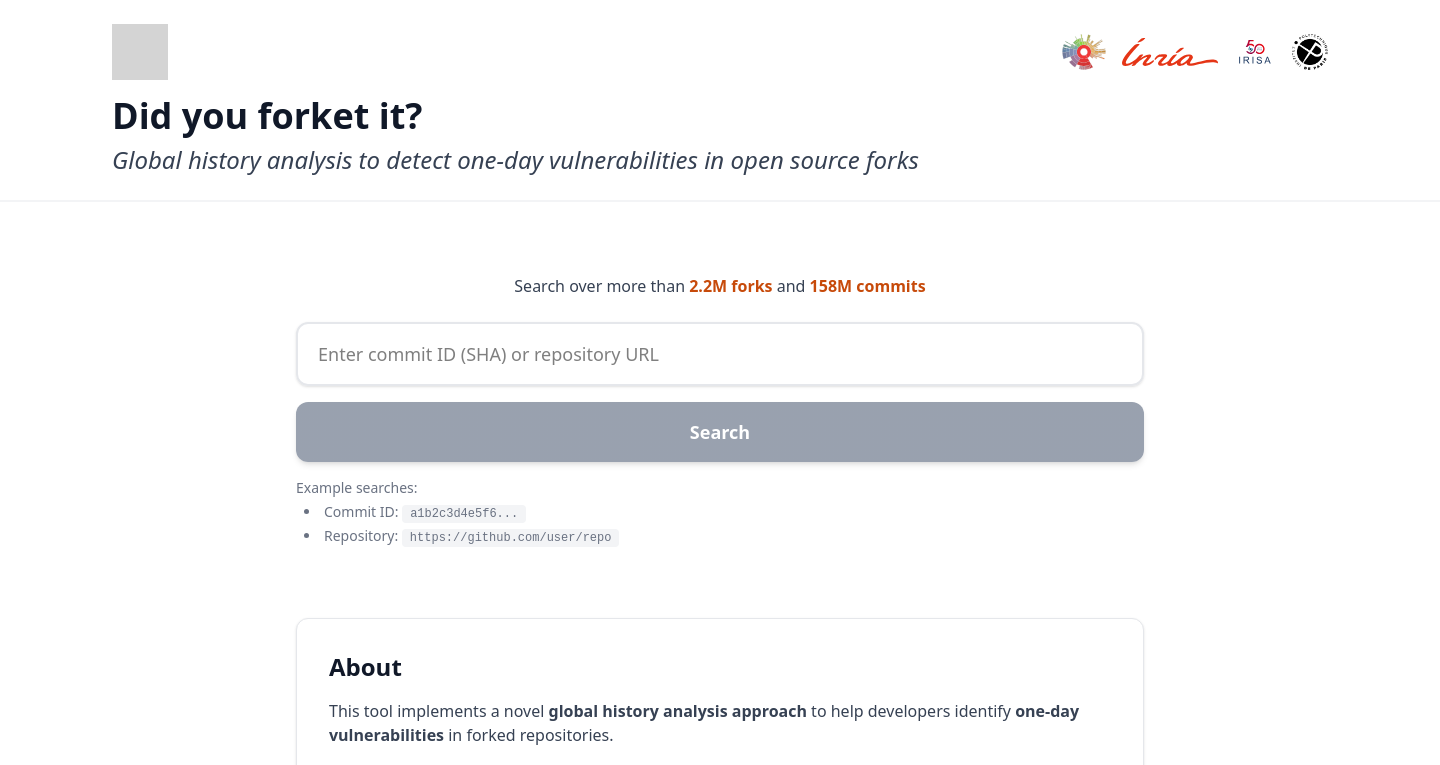
it: App - Consecutive Search Tests › should clear error messages when performing a new search
// First search (fails)
In the field named "search by commit id or repository url": (720, 354) left=296, top=322, right=1144, bottom=386, type "aaaaaaaaaaaaaaaaaaaaaaaaaaaaaaaaaaaaaaaa"
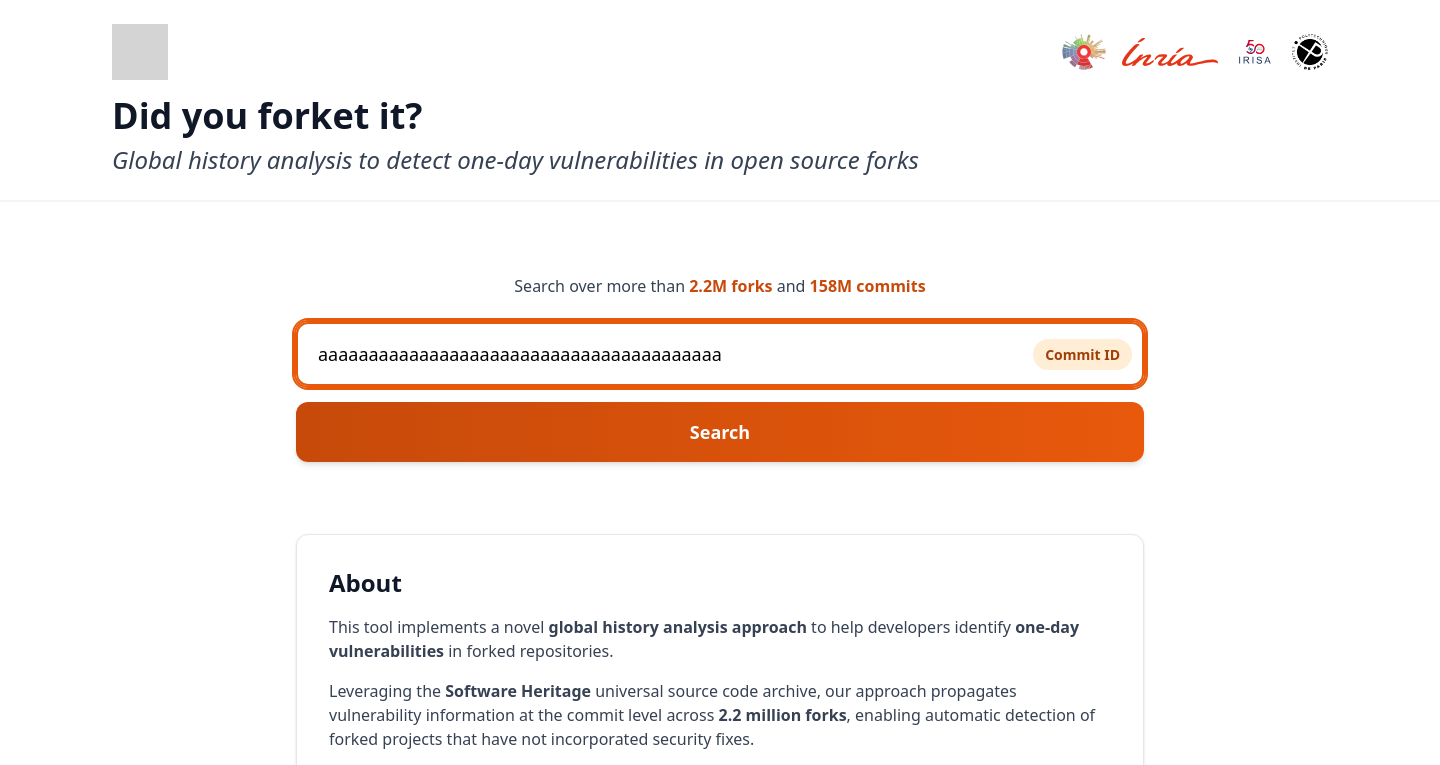
Click the button with aria-label "execute vulnerability search": (720, 432) left=296, top=402, right=1144, bottom=462
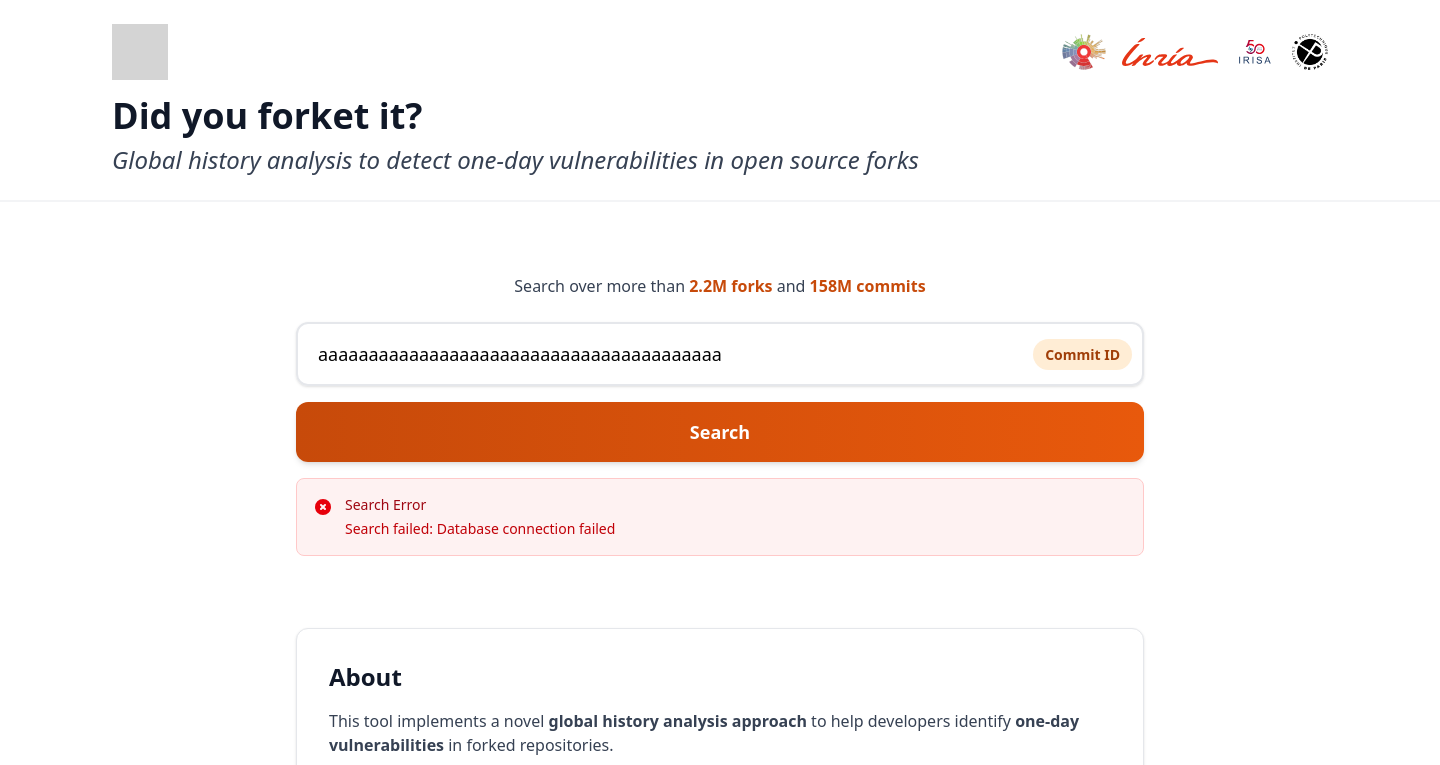
Now the text "Search failed: Database connection failed" is shown, box left=345, top=519, right=615, bottom=538
// Second search (succeeds)
Replace the text in the field named "search by commit id or repository url" with "cccccccccccccccccccccccccccccccccccccccc": (720, 354) left=296, top=322, right=1144, bottom=386
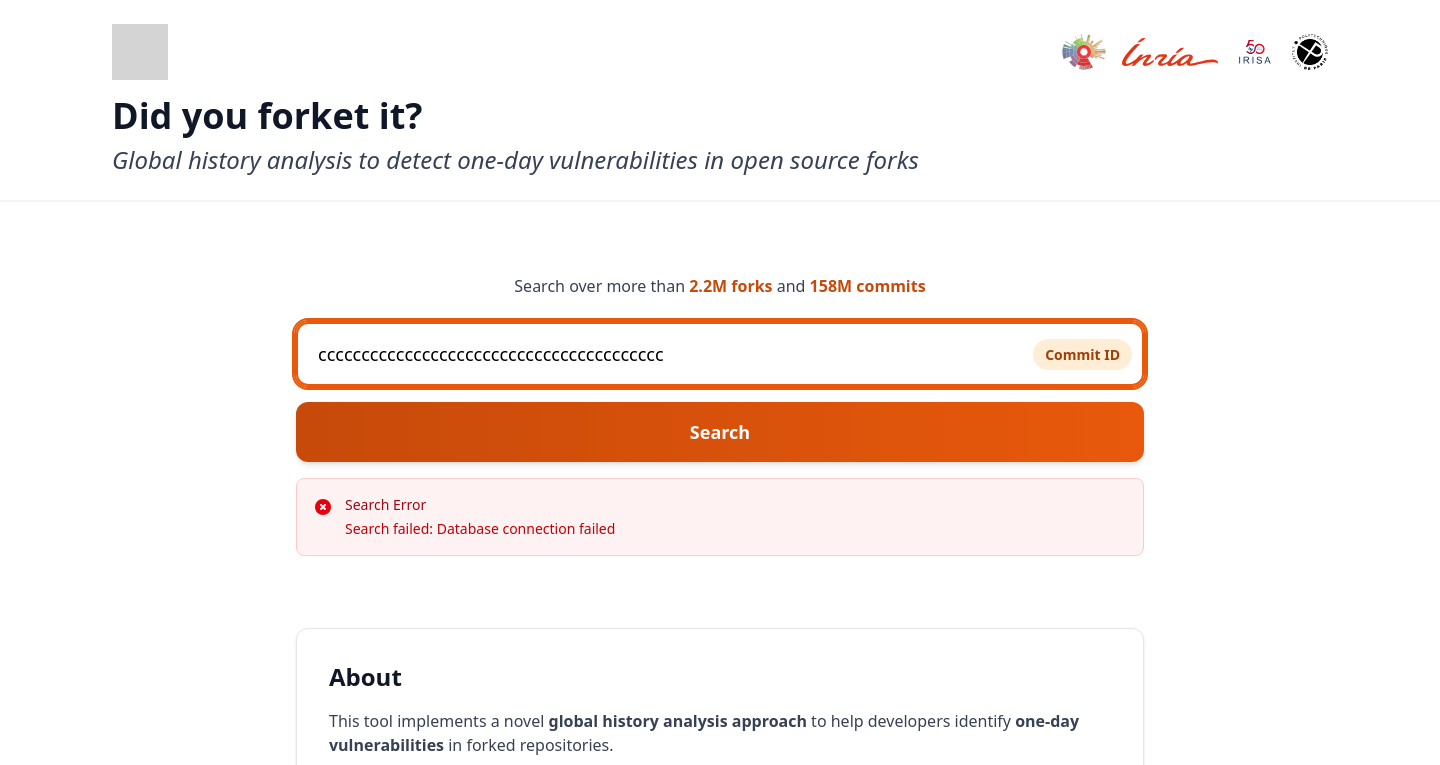
Click the button with aria-label "execute vulnerability search": (720, 432) left=296, top=402, right=1144, bottom=462
(page scrolled)
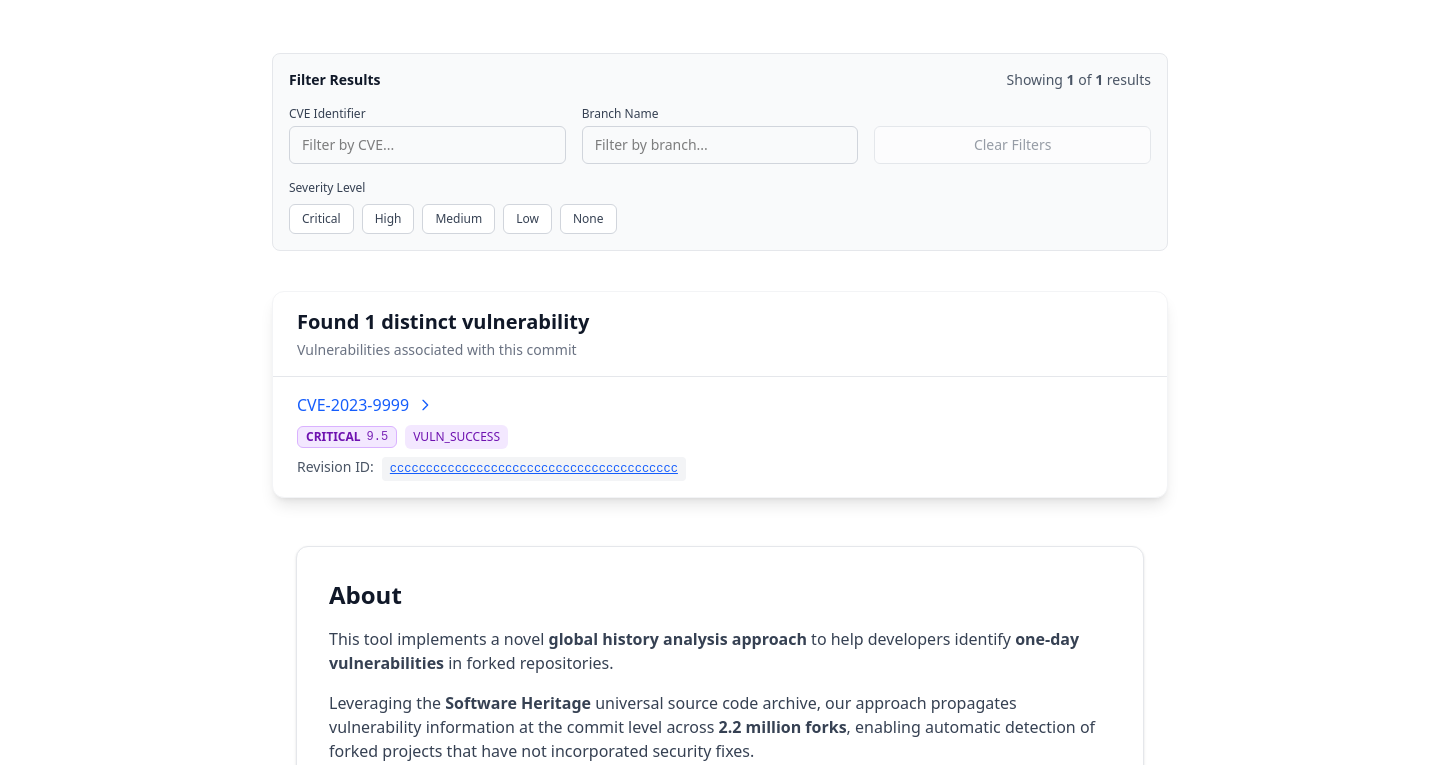
Now the text "Database connection failed" is gone
Now the text "CVE-2023-9999" is shown, box left=297, top=393, right=409, bottom=417
